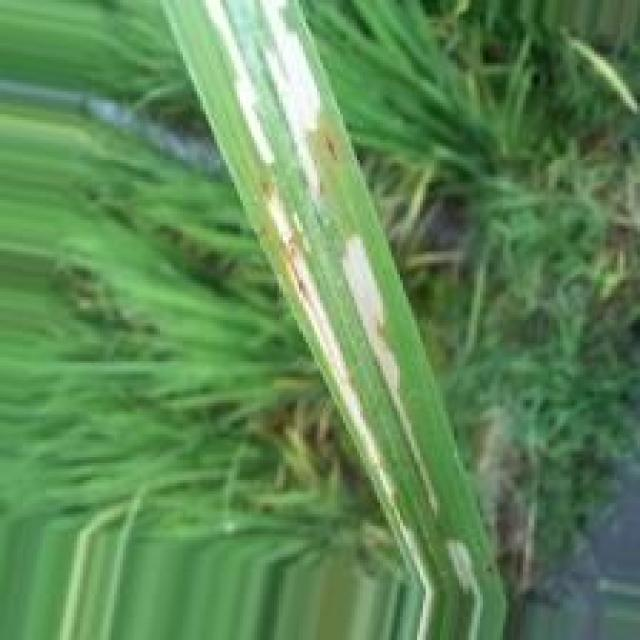Rice_Hispa: (256, 189, 408, 540), (344, 232, 431, 512), (256, 0, 324, 202)
